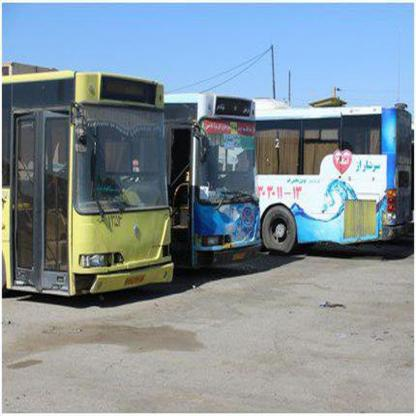Bus: (0, 68, 181, 305), (262, 106, 416, 249), (167, 90, 268, 284)
